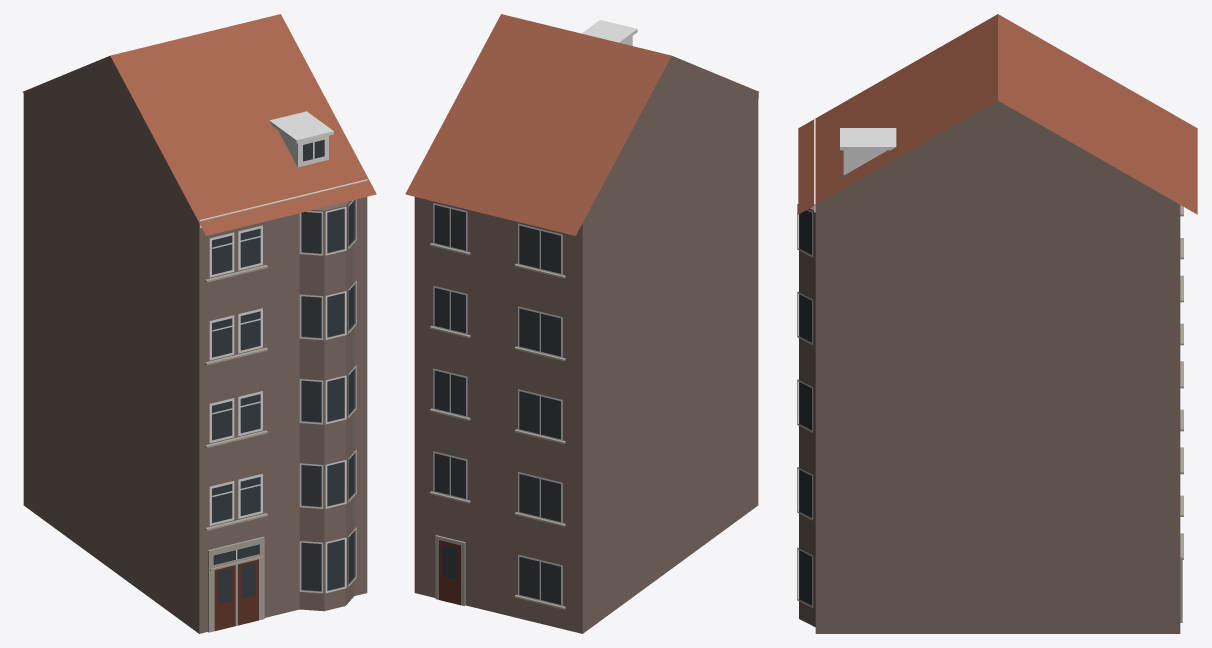
Rendered from we-pk-bay5__brown__5__gable__long__solid__f0d0__mirror.glb.
3 views of the same model, side by side, from view 1: azimuth 30°, elevation 25°; view 2: azimuth 150°, elevation 25°; view 3: azimuth 270°, elevation 25° (orthographic). The views are drawn at different scales.
Parts seen in each view (by area): view 1: we-pk-bay5__brown__5__gable__long__solid__f0d0__mirror; view 2: we-pk-bay5__brown__5__gable__long__solid__f0d0__mirror; view 3: we-pk-bay5__brown__5__gable__long__solid__f0d0__mirror.
Part boxes in pixels (x1,y1,x2,y2): we-pk-bay5__brown__5__gable__long__solid__f0d0__mirror: (23, 14, 376, 633); we-pk-bay5__brown__5__gable__long__solid__f0d0__mirror: (405, 14, 758, 633); we-pk-bay5__brown__5__gable__long__solid__f0d0__mirror: (797, 14, 1197, 633).
Size of the model in its own units: 6.56 by 18.89 by 12.85.
